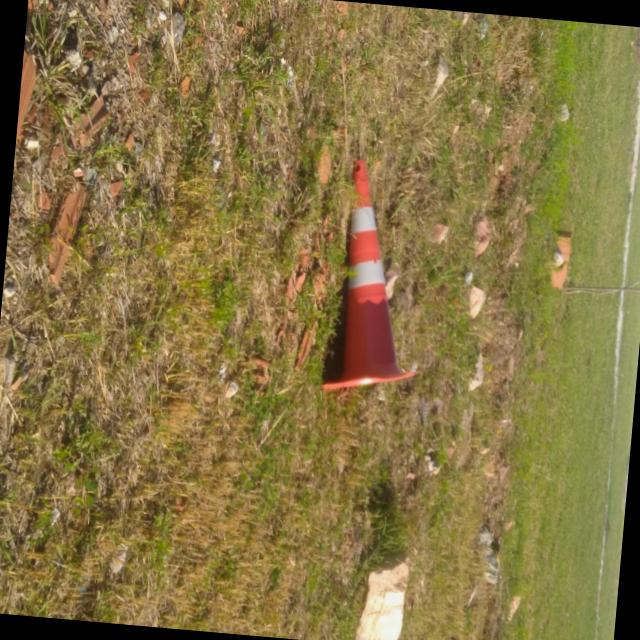cone: (311, 128, 437, 416)
